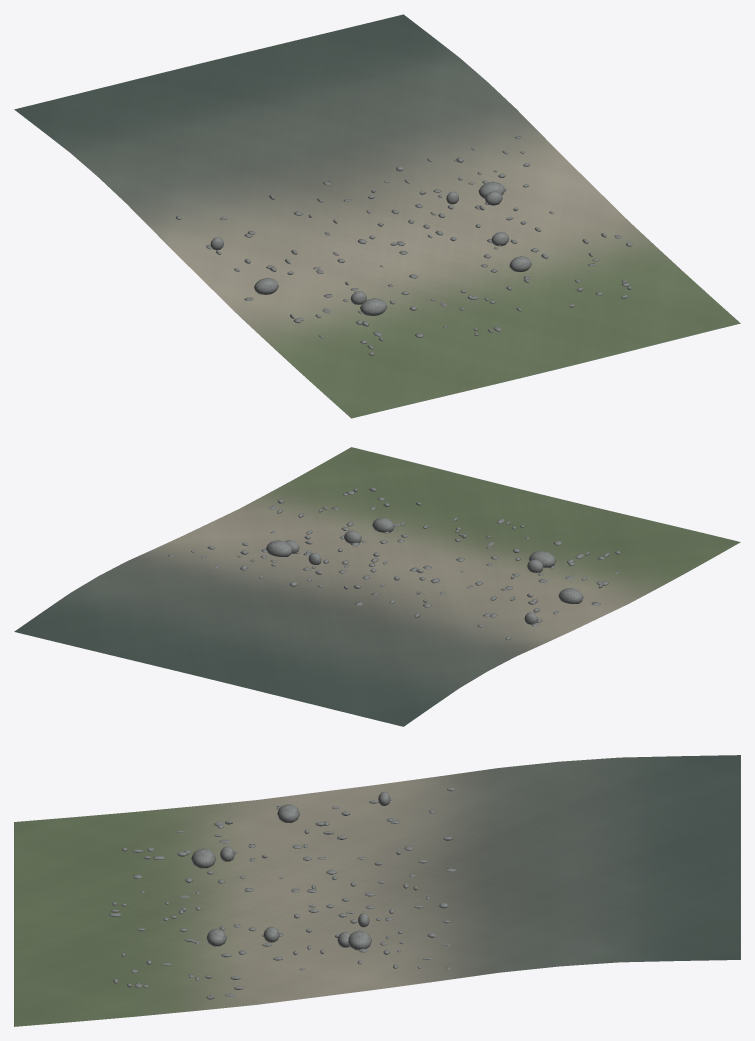
3 renders of one model, top to bottom at view 1: azimuth 30°, elevation 25°; view 2: azimuth 150°, elevation 25°; view 3: azimuth 270°, elevation 25°, orthographic. The views are drawn at different scales.
Parts seen in each view (by area): view 1: VIS_Shore_Wet, VIS_Rounded_Stone; view 2: VIS_Shore_Wet, VIS_Rounded_Stone; view 3: VIS_Shore_Wet, VIS_Rounded_Stone.
Part boxes in pixels (x1=…): VIS_Shore_Wet: x1=14, y1=14, x2=740, y2=418; VIS_Rounded_Stone: x1=175, y1=136, x2=632, y2=355; VIS_Shore_Wet: x1=14, y1=447, x2=740, y2=726; VIS_Rounded_Stone: x1=168, y1=487, x2=620, y2=640; VIS_Shore_Wet: x1=14, y1=755, x2=740, y2=1026; VIS_Rounded_Stone: x1=109, y1=787, x2=455, y2=999.
Bounding box in the file's own units: 8 × 1.25 × 12.
Materials: 2 (2 with a texture image).
